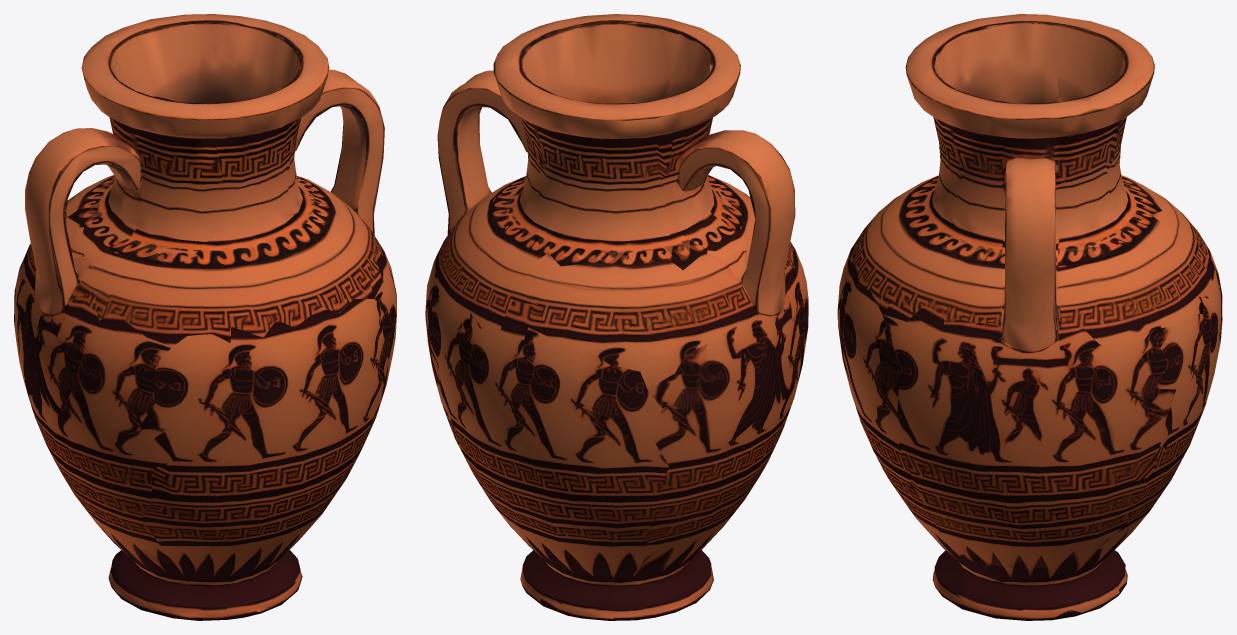
File: amphora.glb
3 renders of one model, left to right at view 1: azimuth 30°, elevation 25°; view 2: azimuth 150°, elevation 25°; view 3: azimuth 270°, elevation 25°, orthographic.
Parts seen in each view (by area): view 1: amphora; view 2: amphora; view 3: amphora.
Part boxes in pixels (x1,y1,x2,y2): amphora: (14, 14, 396, 620); amphora: (425, 14, 808, 620); amphora: (837, 14, 1222, 620).
Size of the model in its own units: 0.8877 by 1.3 by 0.8676.
Materials: 1 (1 with a texture image).
